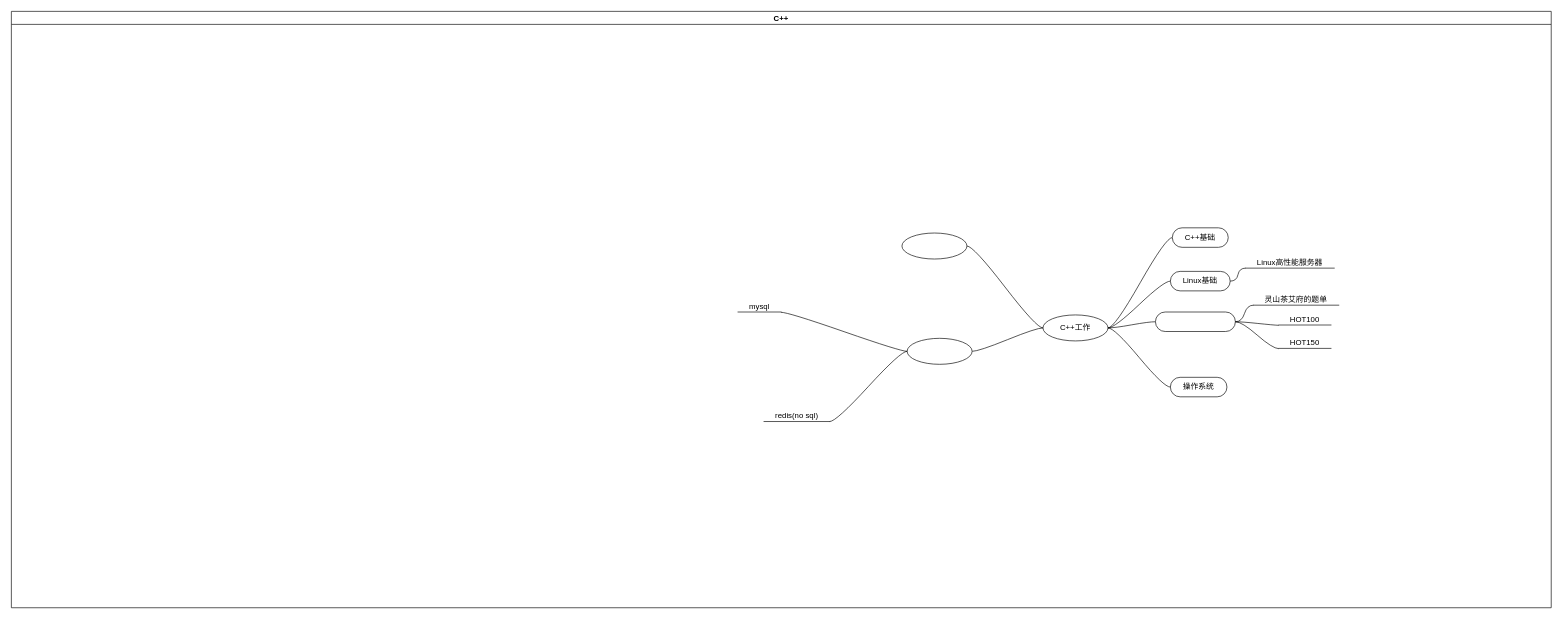
Some shapes in this 1563 by 619 pixel diagram are drawn without their labels. The shapes that lost their labels are listed below. From the top down, each one's box as (x1, y1, x2, y2) in pixels, then its label:
(901, 232, 967, 259): 项目
(1155, 311, 1235, 332): 数据结构与算法
(906, 338, 972, 364): 数据库
